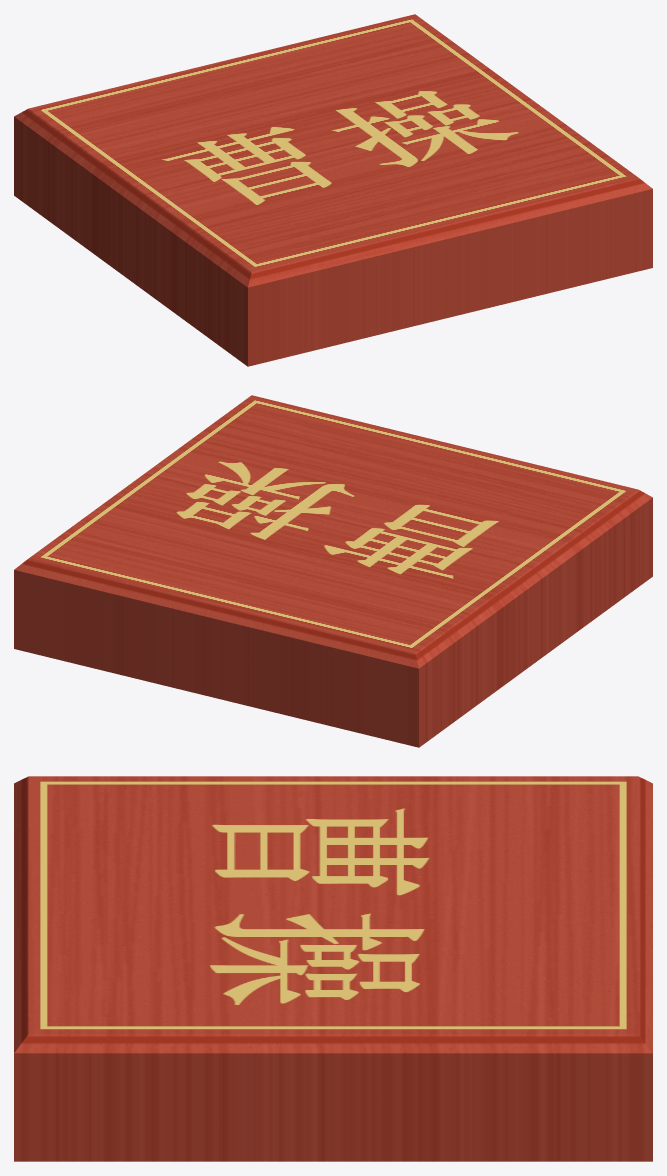
File: tile_cao.glb
3 renders of one model, top to bottom at view 1: azimuth 30°, elevation 25°; view 2: azimuth 150°, elevation 25°; view 3: azimuth 270°, elevation 25°, orthographic. The views are drawn at different scales.
Visible parts, largest first — view 1: tile_cao; view 2: tile_cao; view 3: tile_cao.
Part boxes in pixels (left/top/right/bottom): tile_cao: left=14, top=14, right=652, bottom=366; tile_cao: left=14, top=395, right=652, bottom=747; tile_cao: left=14, top=776, right=652, bottom=1161.
Size of the model in its own units: 0.134 by 0.028 by 0.134.
Materials: 1 (1 with a texture image).
